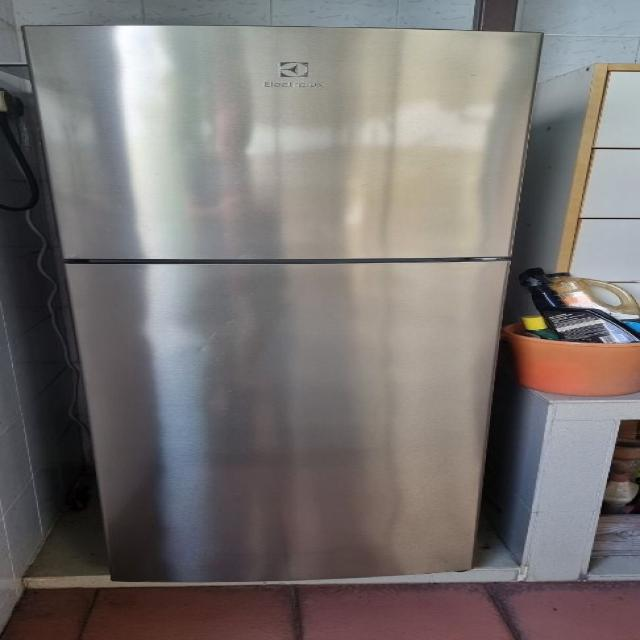refrigerator: (22, 24, 526, 570)
